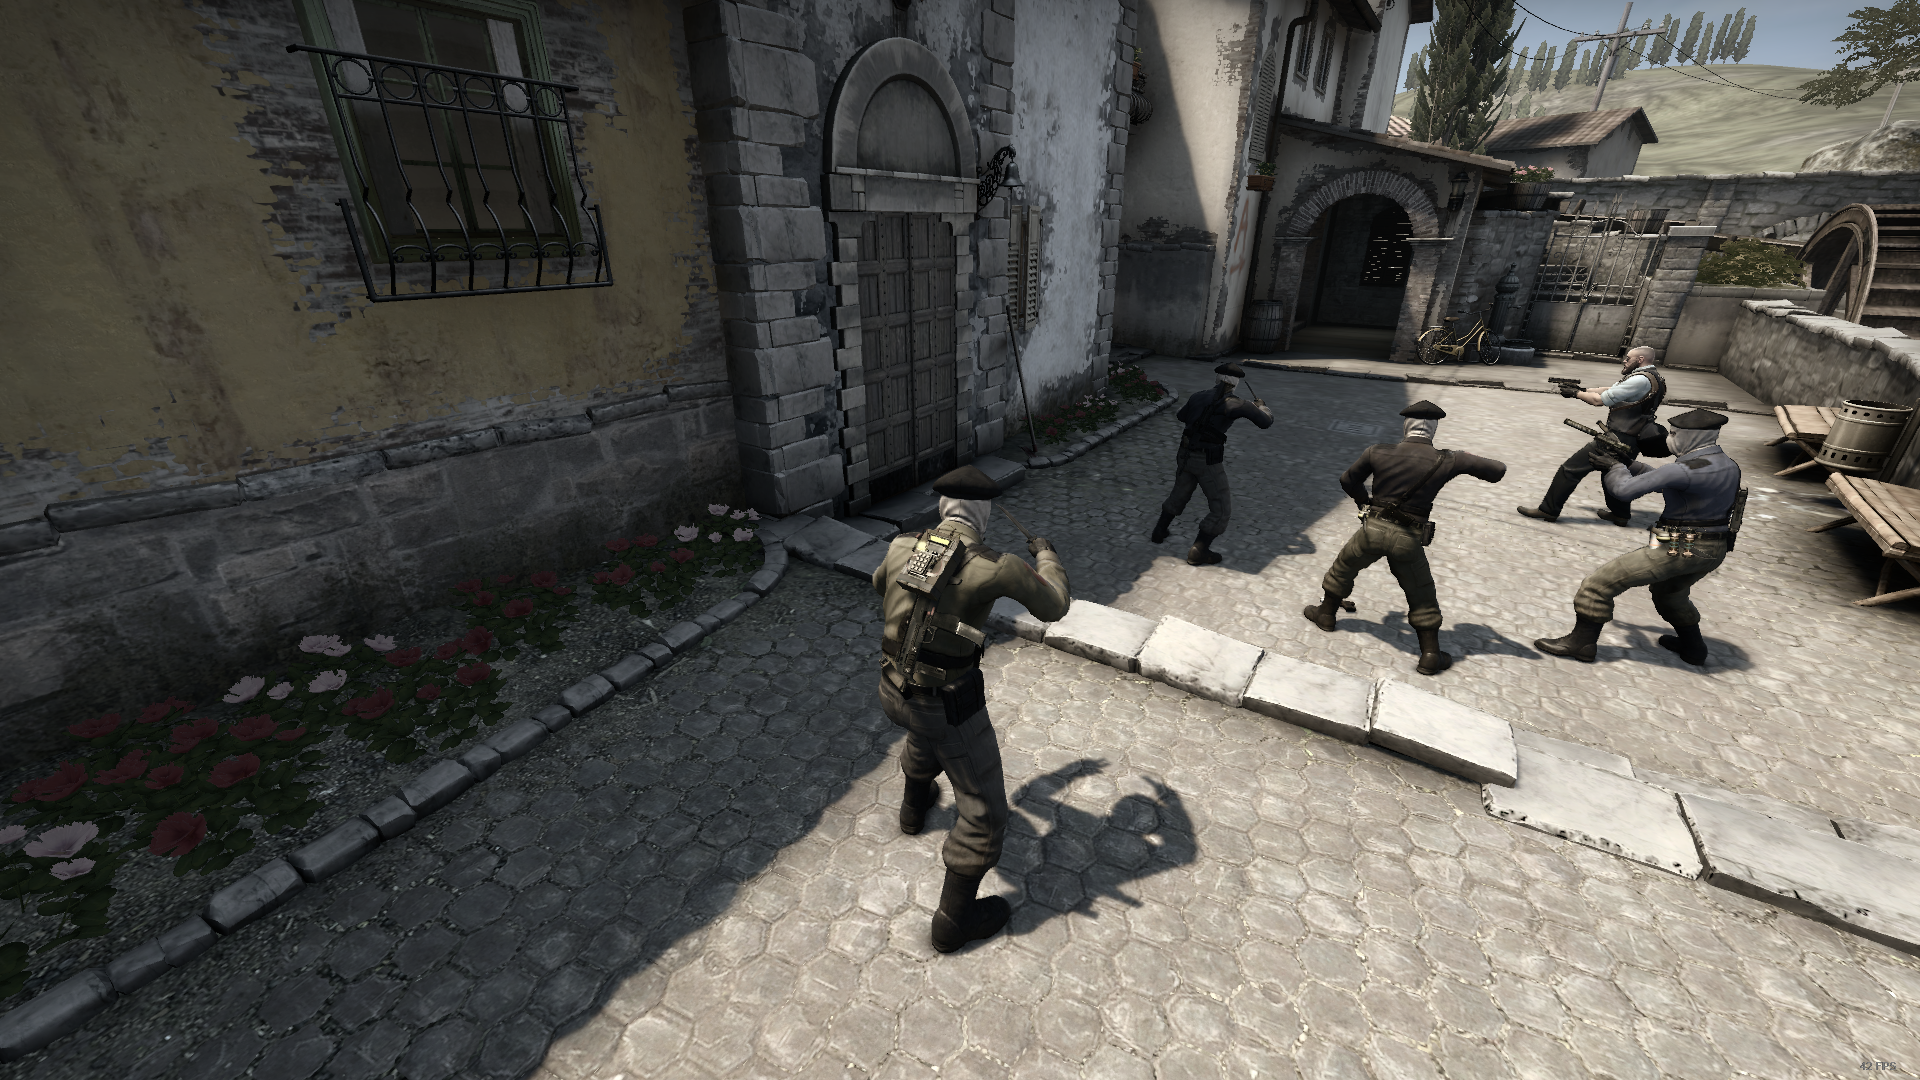t: (814, 419, 1081, 971), (1294, 365, 1511, 702), (1125, 331, 1282, 592)
